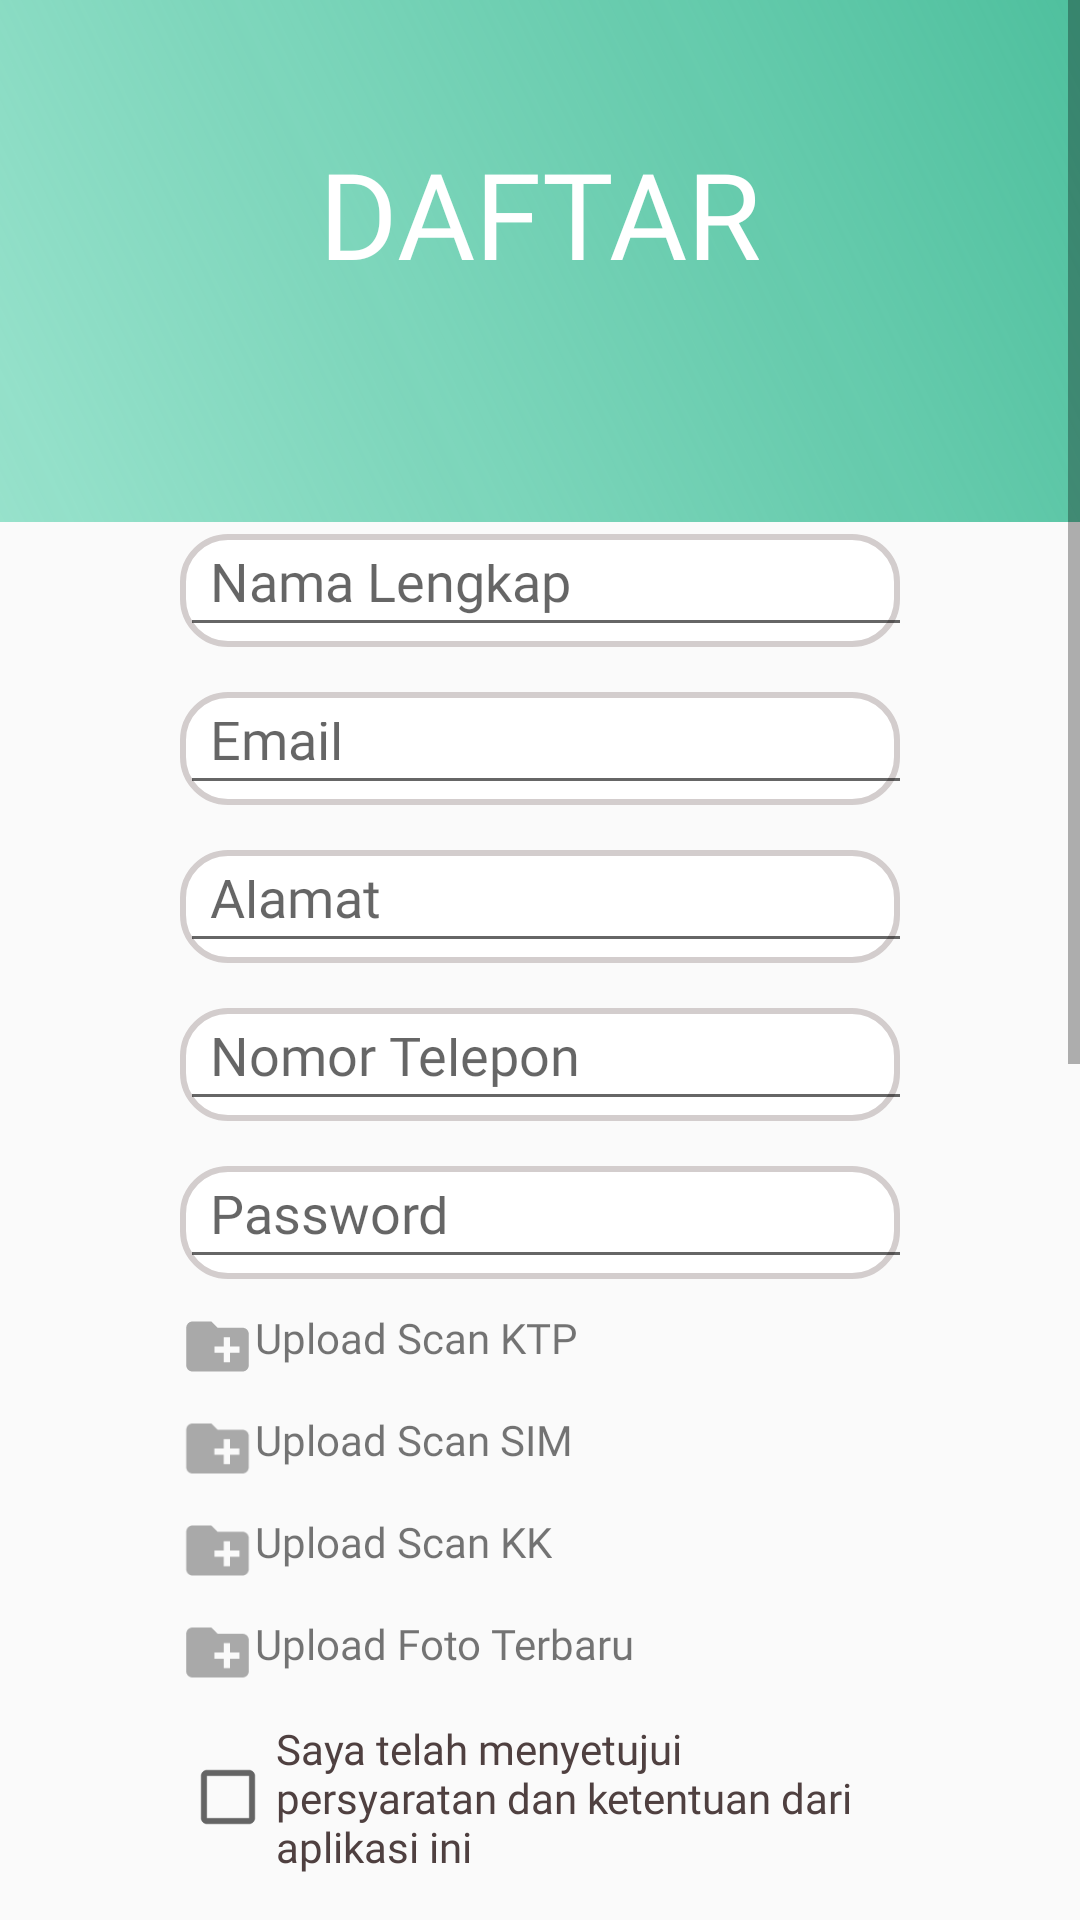

Named icons in this screenshot (1080 × 1920) and their centers, point (x, y):
folder: point (217, 1346), point (217, 1448), point (217, 1550), point (217, 1652)
